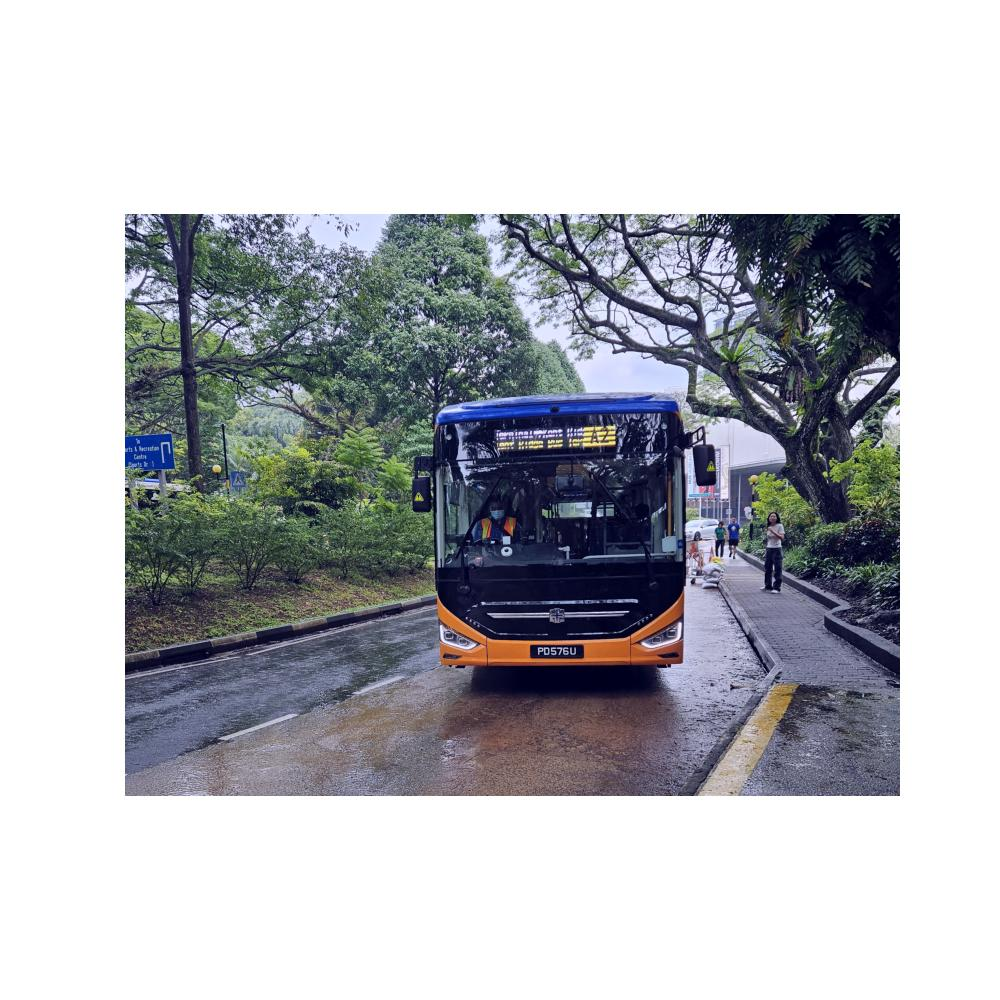bus: (407, 397, 716, 683)
